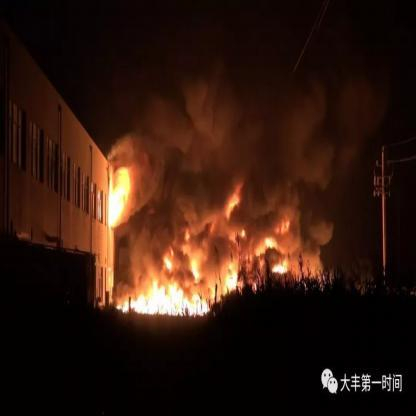fire: (131, 288, 209, 316), (107, 169, 128, 229), (221, 265, 239, 292), (190, 259, 202, 284), (162, 252, 174, 270), (271, 262, 287, 274), (117, 297, 129, 311), (262, 239, 276, 249)
